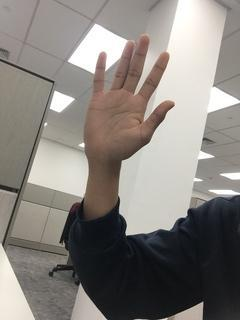hand: (83, 34, 175, 164)
